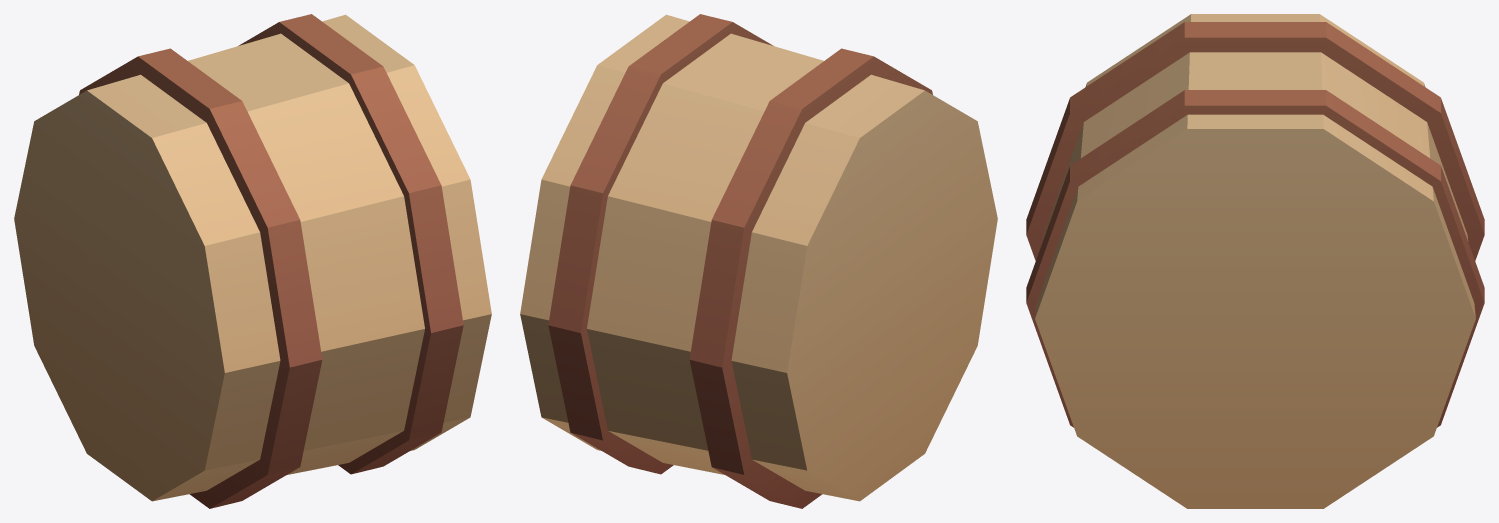
File: leather_sleeves_lower.glb
The picture shows the model from 3 angles, left to right: view 1: azimuth 30°, elevation 25°; view 2: azimuth 150°, elevation 25°; view 3: azimuth 270°, elevation 25°; orthographic projection.
Parts seen in each view (by area): view 1: leather_sleeves_lower; view 2: leather_sleeves_lower; view 3: leather_sleeves_lower.
Boxes of the visible parts, box(x1,y1,x2,y2) form: leather_sleeves_lower: box(14, 14, 491, 508); leather_sleeves_lower: box(520, 14, 997, 508); leather_sleeves_lower: box(1026, 14, 1484, 508).
Bounding box in the file's own units: 0.24 × 0.3519 × 0.37.
Materials: 1 (1 with a texture image).
